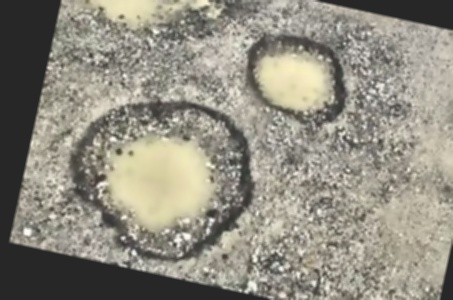pothole: (49, 76, 275, 282), (234, 24, 360, 130), (70, 0, 238, 56)
